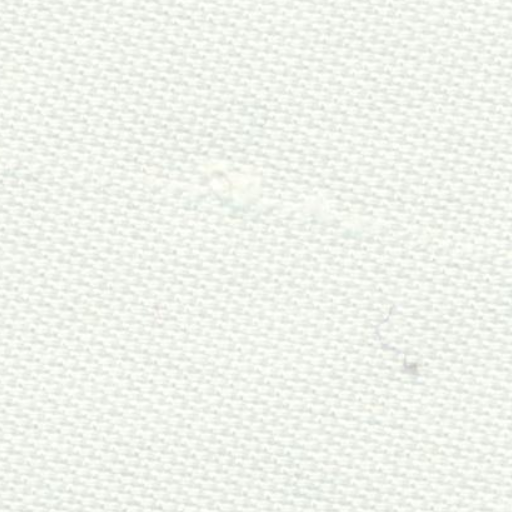DaiSha: (57, 138, 462, 259)
